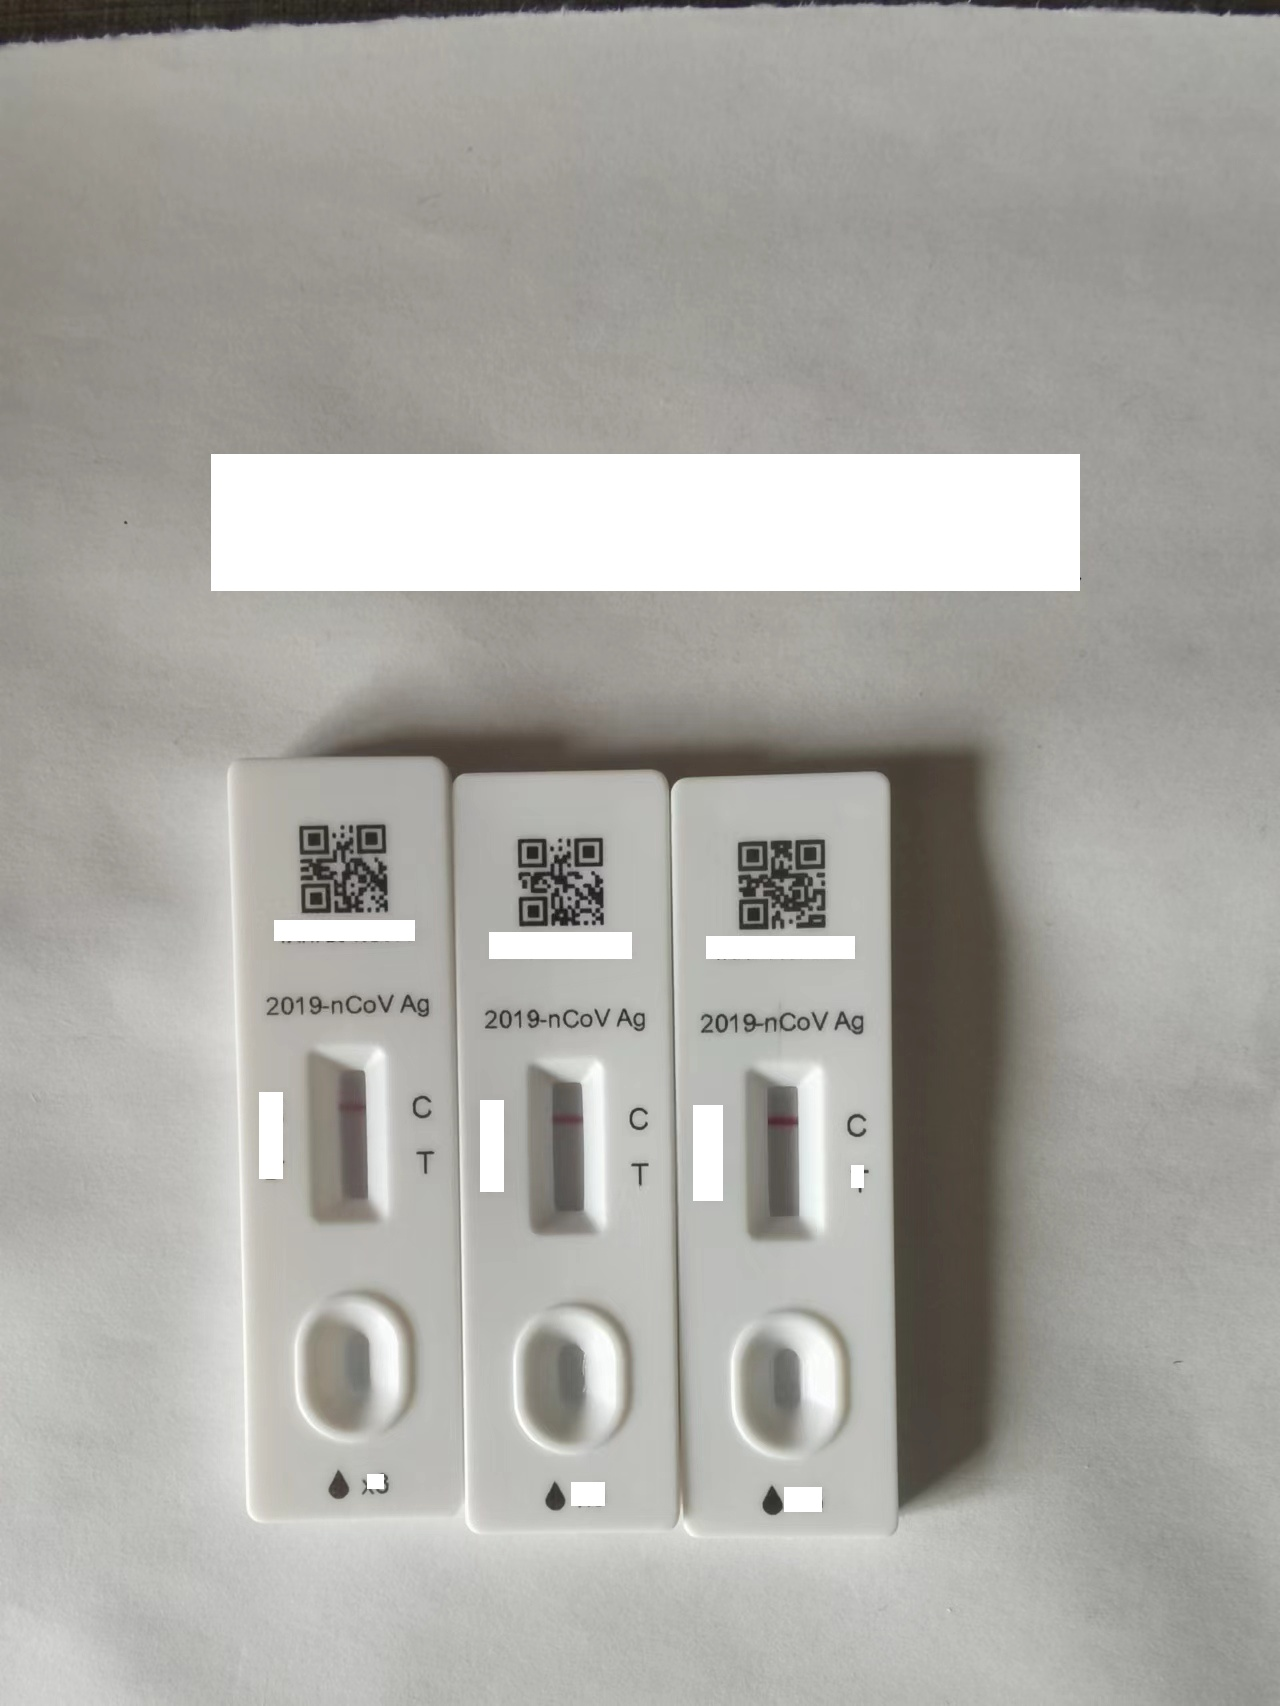negative: (524, 1057, 606, 1240), (308, 1045, 387, 1231), (746, 1063, 823, 1244)
